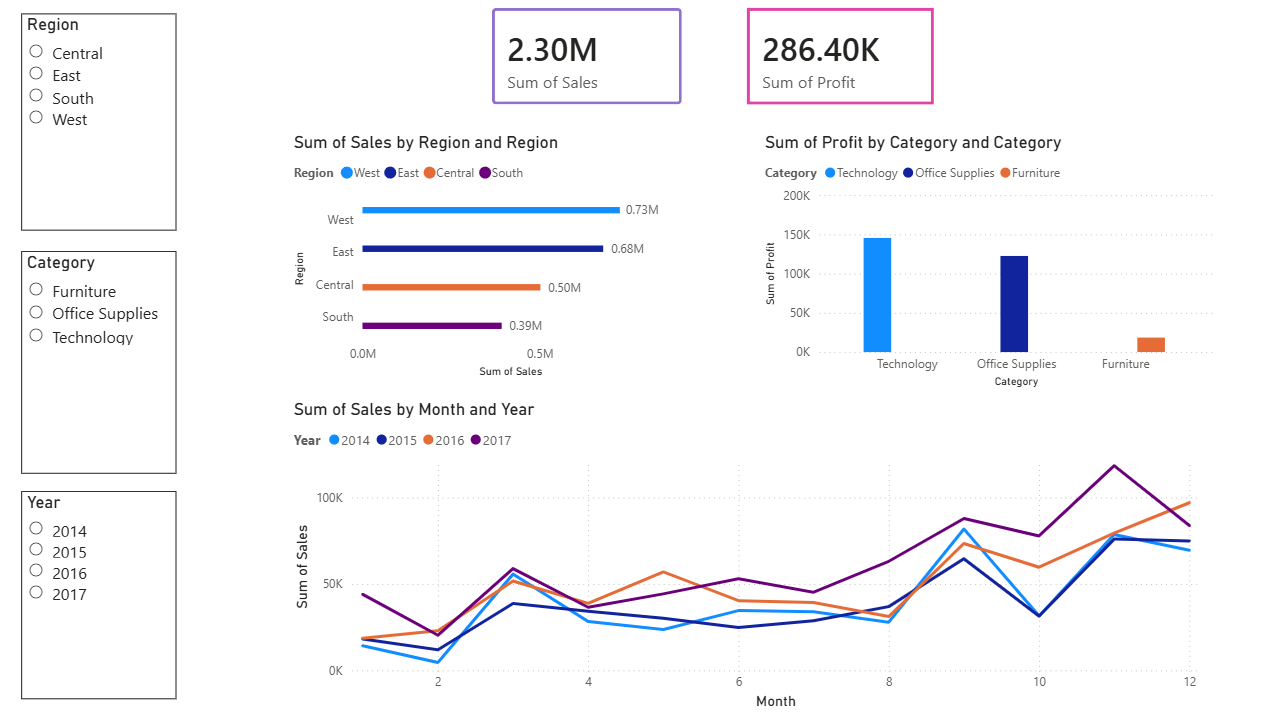

The dashboard page shown, as its layout file describes it:
{"tool":"powerbi","page":{"name":"Page 1","canvas":[1280,720],"ordinal":0},"visuals":[{"type":"cardVisual","fields":{"Data":["Sum(Cleaned_Superstore_Data.Profit)"]},"box":[731.2,0,220,130],"z":0},{"type":"cardVisual","fields":{"Data":["Sum(Cleaned_Superstore_Data.Sales)"]},"box":[477.5,0,223.8,130],"z":1000},{"type":"clusteredColumnChart","fields":{"Category":["Cleaned_Superstore_Data.Category"],"Y":["Sum(Cleaned_Superstore_Data.Profit)"],"Series":["Cleaned_Superstore_Data.Category"]},"box":[761.2,140,456.2,258.8],"z":2000},{"type":"clusteredBarChart","fields":{"Category":["Cleaned_Superstore_Data.Region"],"Y":["Sum(Cleaned_Superstore_Data.Sales)"],"Series":["Cleaned_Superstore_Data.Region"]},"box":[292.5,140,387.5,248.8],"z":3000},{"type":"lineChart","fields":{"Category":["Cleaned_Superstore_Data.Month"],"Y":["Sum(Cleaned_Superstore_Data.Sales)"],"Series":["Cleaned_Superstore_Data.Year"]},"box":[292.9,405.7,911.4,314.3],"z":4000},{"type":"listSlicer","fields":{"Values":["Cleaned_Superstore_Data.Region"]},"box":[25.7,22.9,154.3,215.7],"z":5000},{"type":"listSlicer","fields":{"Values":["Cleaned_Superstore_Data.Category"]},"box":[25.7,258.6,154.3,221.4],"z":6000},{"type":"listSlicer","fields":{"Values":["Cleaned_Superstore_Data.Year"]},"box":[25.7,497.1,154.3,207.1],"z":7000}]}

Visuals, with their boxes in screenshot pixels (x1, y1, x2, y2), scaled from the page's 1280x720 canvas onto the 1270x712 screenshot:
cardVisual - Sum(Cleaned_Superstore_Data.Profit): BBox(725, 0, 944, 129)
cardVisual - Sum(Cleaned_Superstore_Data.Sales): BBox(474, 0, 696, 129)
clusteredColumnChart - Cleaned_Superstore_Data.Category x Sum(Cleaned_Superstore_Data.Profit): BBox(755, 138, 1208, 394)
clusteredBarChart - Cleaned_Superstore_Data.Region x Sum(Cleaned_Superstore_Data.Sales): BBox(290, 138, 675, 384)
lineChart - Cleaned_Superstore_Data.Month x Sum(Cleaned_Superstore_Data.Sales): BBox(291, 401, 1195, 711)
listSlicer - Cleaned_Superstore_Data.Region: BBox(25, 23, 179, 236)
listSlicer - Cleaned_Superstore_Data.Category: BBox(25, 256, 179, 475)
listSlicer - Cleaned_Superstore_Data.Year: BBox(25, 492, 179, 696)
